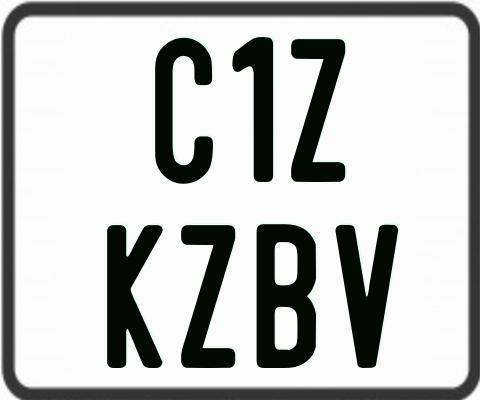1: (232, 34, 276, 181)
B: (256, 224, 320, 373)
C: (155, 38, 213, 186)
K: (104, 222, 163, 365)
V: (335, 225, 403, 370)
Z: (178, 224, 235, 370), (291, 39, 347, 186)
